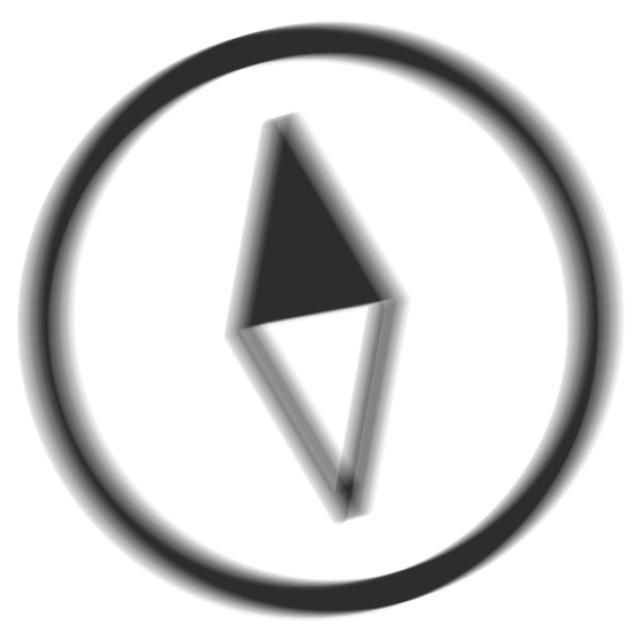compass: (9, 14, 631, 635)
